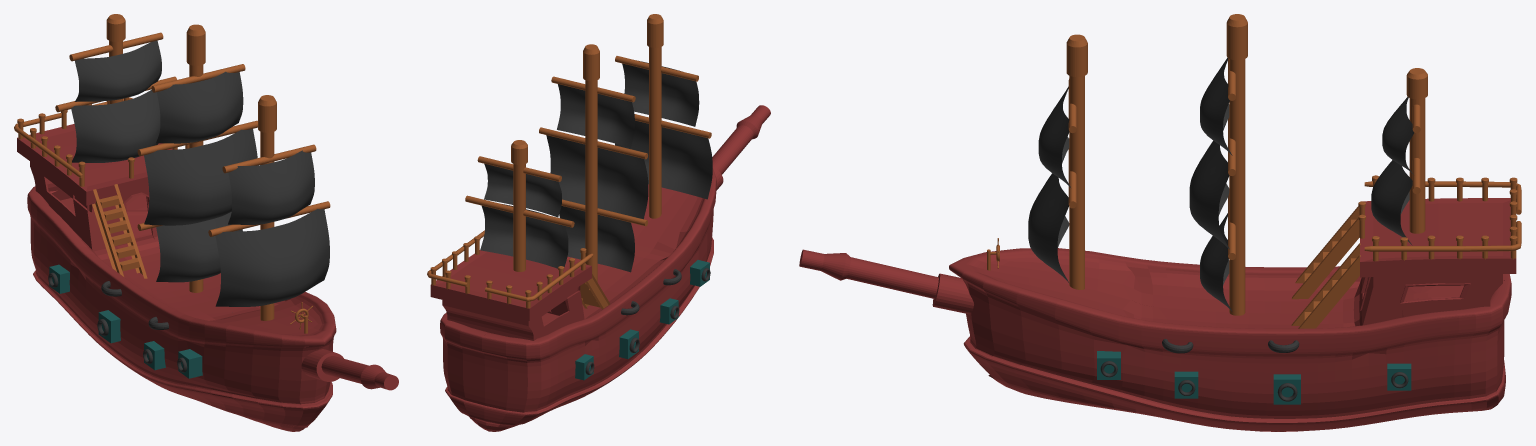
The model's file is uploads_files_5091219_SHIP.fbx.
The picture shows the model from 3 angles, left to right: view 1: azimuth 30°, elevation 25°; view 2: azimuth 150°, elevation 25°; view 3: azimuth 270°, elevation 25°; orthographic projection. The views are drawn at different scales.
Visible parts, largest first — view 1: MAIN PART, Plane, HOUSE, Plane.002, Plane.005, Plane.001, Plane.003, Plane.006, Plane.004, SIDEDESIGN, Cylinder, Cylinder.003 (+13 smaller); view 2: MAIN PART, HOUSE, Plane.002, Plane, Plane.005, Cylinder.001, Plane.003, Plane.004, Cylinder.003, Plane.001, Plane.006, SIDEDESIGN (+13 smaller); view 3: MAIN PART, HOUSE, Cylinder.001, Cylinder, Cylinder.003, SIDEDESIGN, Plane, Plane.002, Cylinder.002, Plane.005, Plane.001, Plane.003 (+5 smaller).
Boxes of the visible parts, x1,y1,x2,y2 form: MAIN PART: [27, 186, 336, 431]; Plane: [215, 209, 329, 306]; HOUSE: [17, 124, 172, 251]; Plane.002: [144, 129, 257, 225]; Plane.005: [71, 90, 160, 162]; Plane.001: [228, 150, 314, 224]; Plane.003: [156, 71, 243, 143]; Plane.006: [75, 40, 161, 101]; Plane.004: [156, 212, 242, 282]; SIDEDESIGN: [48, 264, 202, 378]; Cylinder: [301, 349, 398, 390]; Cylinder.003: [258, 95, 276, 320]; MAIN PART: [440, 168, 716, 431]; HOUSE: [430, 250, 591, 340]; Plane.002: [546, 135, 648, 219]; Plane: [615, 120, 712, 199]; Plane.005: [480, 204, 568, 268]; Cylinder.001: [583, 44, 599, 281]; Plane.003: [557, 84, 634, 147]; Plane.004: [559, 206, 634, 272]; Cylinder.003: [647, 14, 663, 218]; Plane.001: [622, 60, 699, 126]; Plane.006: [484, 163, 561, 217]; SIDEDESIGN: [575, 260, 710, 380]; MAIN PART: [949, 248, 1511, 431]; HOUSE: [1360, 198, 1516, 325]; Cylinder.001: [1226, 14, 1247, 315]; Cylinder: [799, 249, 973, 314]; Cylinder.003: [1066, 34, 1087, 289]; SIDEDESIGN: [1097, 351, 1411, 404]; Plane: [1028, 154, 1069, 283]; Plane.002: [1189, 122, 1229, 249]; Cylinder.002: [1406, 68, 1427, 233]; Plane.005: [1371, 160, 1412, 245]; Plane.001: [1038, 86, 1070, 187]; Plane.003: [1200, 58, 1232, 155].
Bounding box in the file's own units: 247 × 595 × 945.
